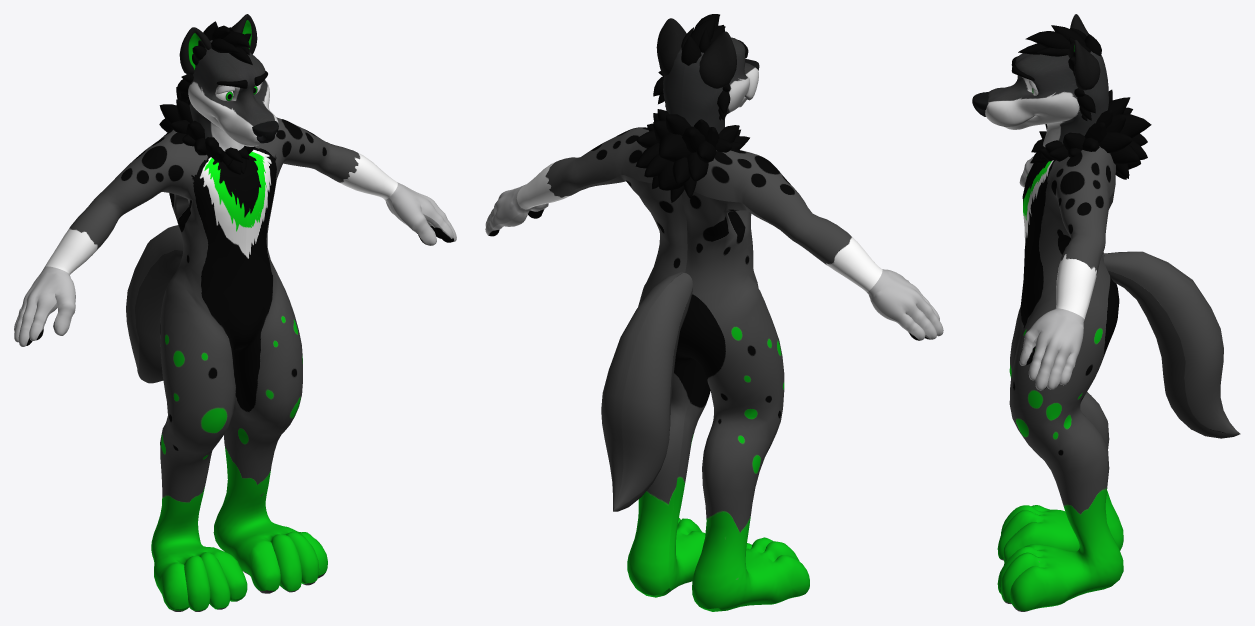
The model's file is catwalk.glb.
3 renders of one model, left to right at view 1: azimuth 30°, elevation 25°; view 2: azimuth 150°, elevation 25°; view 3: azimuth 270°, elevation 25°, orthographic. The views are drawn at different scales.
Parts seen in each view (by area): view 1: Body, Head, Fluff, Hair, Ears; view 2: Body, Fluff, Head, Ears, Hair; view 3: Body, Head, Fluff, Hair, Ears.
Part boxes in pixels (bbox=[...]): Body: bbox=[14, 117, 456, 611]; Head: bbox=[186, 40, 278, 151]; Fluff: bbox=[159, 30, 255, 174]; Hair: bbox=[203, 21, 267, 88]; Ears: bbox=[179, 14, 257, 74]; Body: bbox=[485, 127, 943, 611]; Fluff: bbox=[635, 71, 749, 202]; Head: bbox=[663, 37, 758, 133]; Ears: bbox=[656, 18, 736, 88]; Hair: bbox=[681, 14, 748, 65]; Body: bbox=[997, 146, 1240, 611]; Head: bbox=[985, 51, 1108, 147]; Fluff: bbox=[1030, 51, 1151, 179]; Hair: bbox=[1011, 25, 1101, 80]; Ears: bbox=[1067, 14, 1100, 90].
Bounding box in the file's own units: 0.0111 × 0.0135 × 0.00595.
8 materials, 8 textured.
